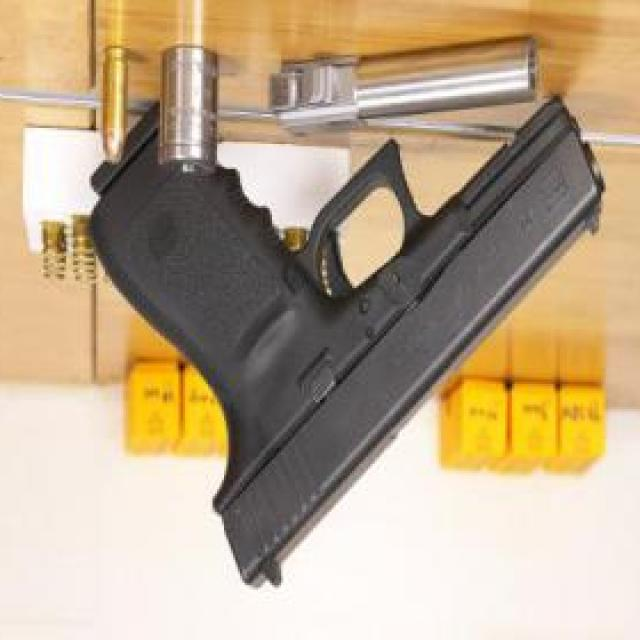pistol: (87, 106, 624, 592)
